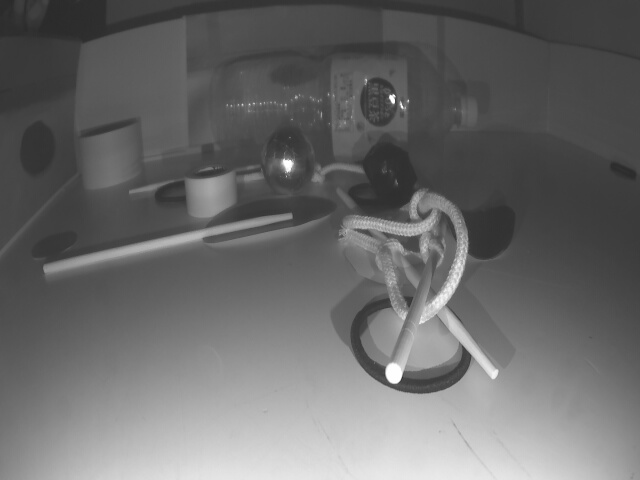Dead: (365, 142, 417, 199)
Live: (261, 131, 316, 193)
